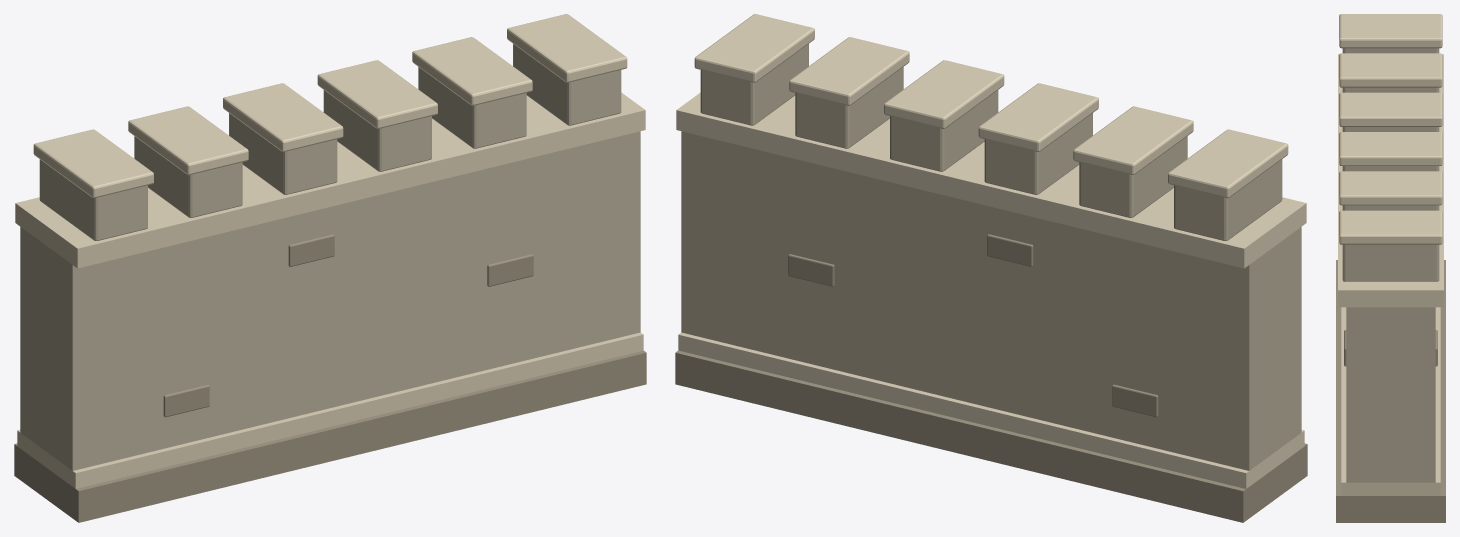
Rendered from Kingdom_Wall_Straight.fbx.
The picture shows the model from 3 angles, left to right: view 1: azimuth 30°, elevation 25°; view 2: azimuth 150°, elevation 25°; view 3: azimuth 270°, elevation 25°; orthographic projection. The views are drawn at different scales.
Visible parts, largest first — view 1: Kingdom_Wall_Straight_Mesh; view 2: Kingdom_Wall_Straight_Mesh; view 3: Kingdom_Wall_Straight_Mesh.
Part boxes in pixels (left/top/right/bottom): Kingdom_Wall_Straight_Mesh: left=14, top=14, right=646, bottom=522; Kingdom_Wall_Straight_Mesh: left=675, top=14, right=1307, bottom=522; Kingdom_Wall_Straight_Mesh: left=1336, top=14, right=1445, bottom=522.
Bounding box in the file's own units: 6 × 3.33 × 1.18.
